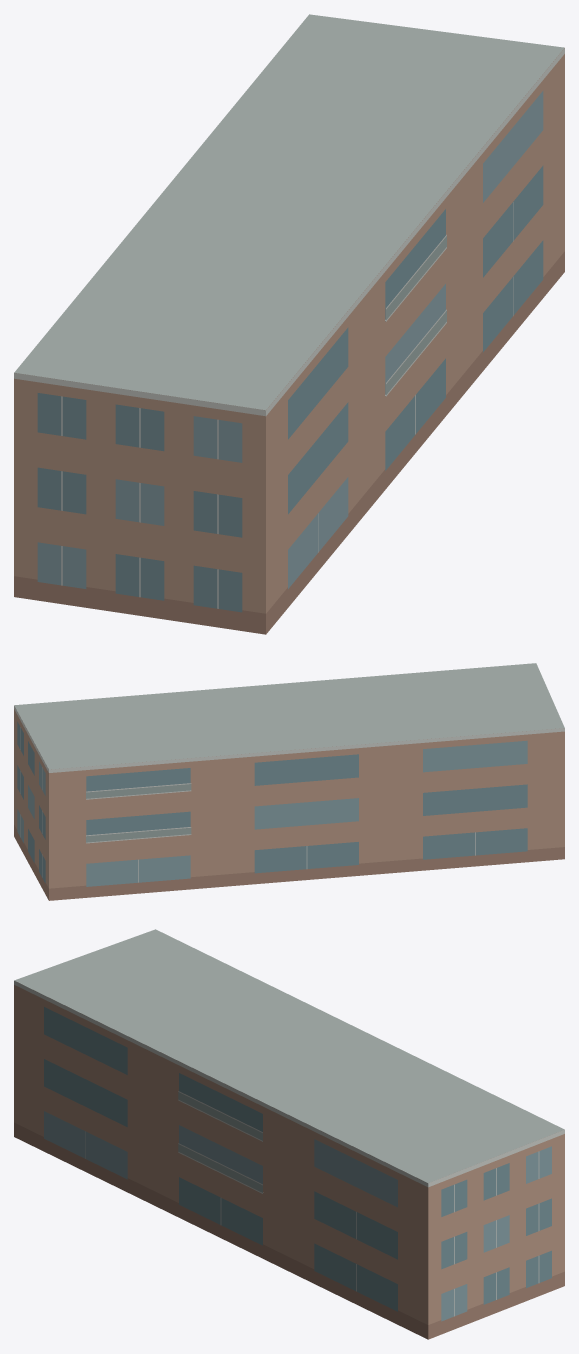
The model's file is survey-upis-32627316.glb.
The picture shows the model from 3 angles, top to bottom: view 1: azimuth 30°, elevation 25°; view 2: azimuth 150°, elevation 25°; view 3: azimuth 270°, elevation 25°; orthographic projection. The views are drawn at different scales.
Parts seen in each view (by area): view 1: survey-upis-32627316.tmp; view 2: survey-upis-32627316.tmp; view 3: survey-upis-32627316.tmp.
Boxes of the visible parts, bbox=[...] form: survey-upis-32627316.tmp: bbox=[14, 14, 564, 634]; survey-upis-32627316.tmp: bbox=[14, 663, 564, 900]; survey-upis-32627316.tmp: bbox=[14, 929, 564, 1339].
Size of the model in its own units: 31.86 by 9.15 by 29.21.
